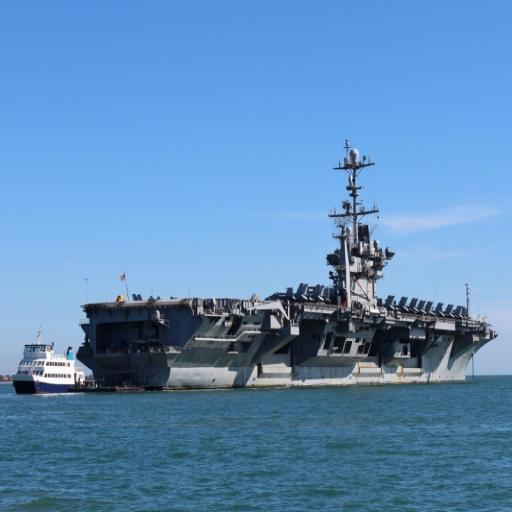Portanaves: (73, 134, 501, 398)
